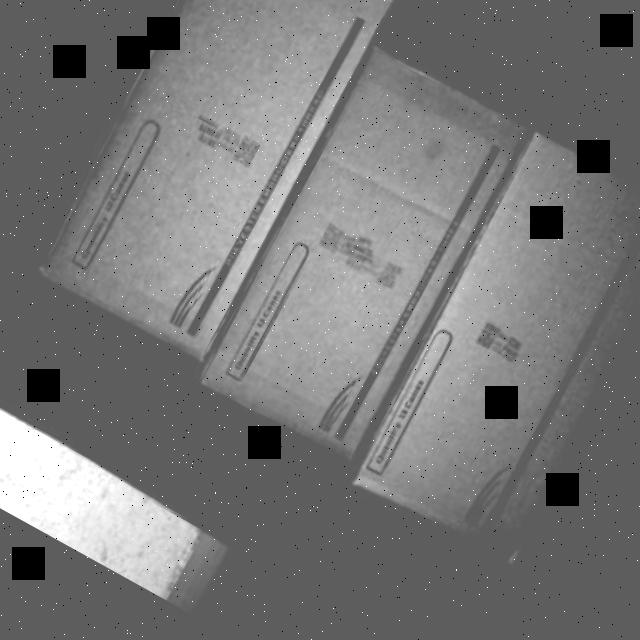box: (193, 44, 539, 468), (21, 0, 399, 369), (351, 130, 640, 564)
